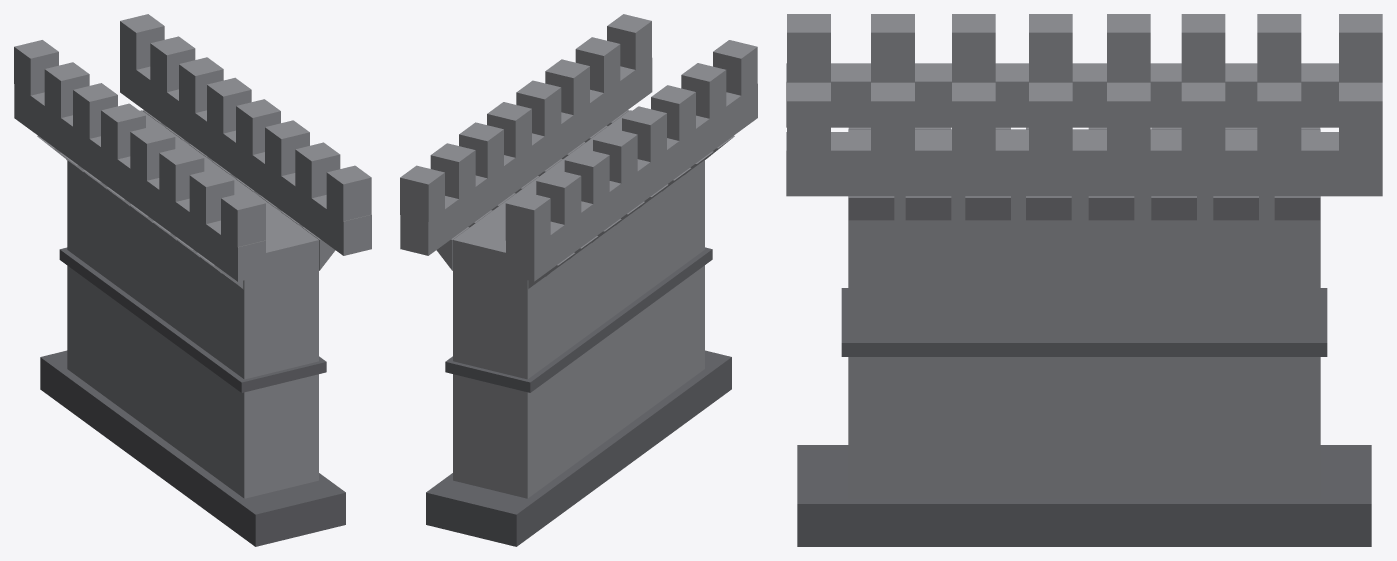
The model's file is model_wall.fbx.
The picture shows the model from 3 angles, left to right: view 1: azimuth 30°, elevation 25°; view 2: azimuth 150°, elevation 25°; view 3: azimuth 270°, elevation 25°; orthographic projection. The views are drawn at different scales.
Visible parts, largest first — view 1: group7_pasted__group_pasted__pasted__pCube4; view 2: group7_pasted__group_pasted__pasted__pCube4; view 3: group7_pasted__group_pasted__pasted__pCube4.
Part boxes in pixels (bbox=[...]): group7_pasted__group_pasted__pasted__pCube4: bbox=[14, 14, 371, 546]; group7_pasted__group_pasted__pasted__pCube4: bbox=[400, 14, 757, 546]; group7_pasted__group_pasted__pasted__pCube4: bbox=[786, 14, 1382, 546].
Bounding box in the file's own units: 3.58 × 8.7 × 10.22.
